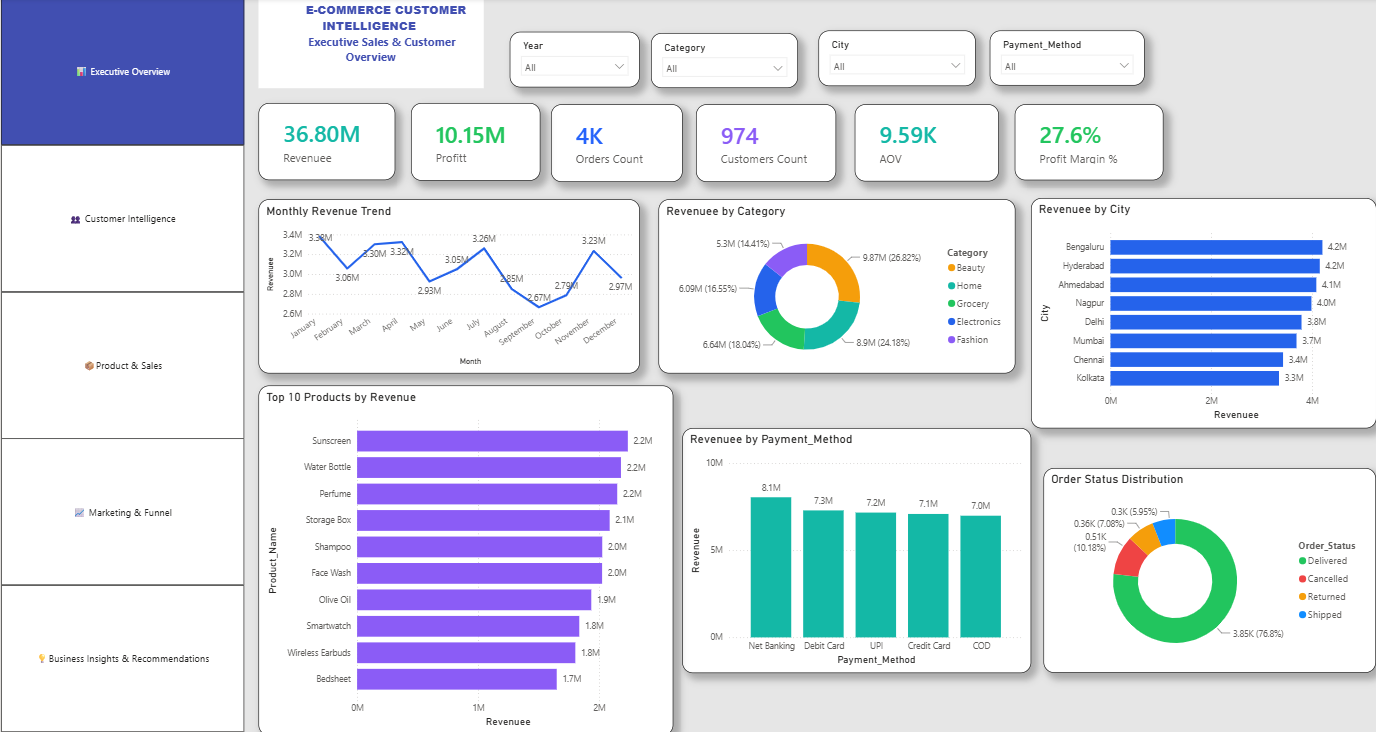

What the dashboard file says about the page in this screenshot:
{"tool":"powerbi","page":{"name":"📊 Executive Overview ","canvas":[1940,1040],"ordinal":0},"visuals":[{"type":"textbox","box":[363,0,317.2,126.9],"z":0},{"type":"cardVisual","title":"Total Revenue","fields":{"Data":["Orders.Revenuee"]},"box":[362.9,148.3,193,108.6],"z":1000},{"type":"cardVisual","title":"Total Orders","fields":{"Data":["Orders.Orders Count"]},"box":[775.3,149.8,185.2,109.8],"z":2000},{"type":"cardVisual","title":"Total Customers","fields":{"Data":["Orders.Customers Count"]},"box":[980.7,149.8,197.6,109.8],"z":3000},{"type":"cardVisual","title":"Average Order Value","fields":{"Data":["Orders.AOV"]},"box":[1203,149.8,203.1,108.4],"z":4000},{"type":"cardVisual","title":"Average Order Value","fields":{"Data":["Orders.Profitt"]},"box":[577.6,148.3,182.5,109.8],"z":5000},{"type":"lineChart","title":"Monthly Revenue Trend","fields":{"Category":["Orders.Order_Date.Variation.Date Hierarchy.Month"],"Y":["Orders.Revenuee"]},"box":[362.9,284.2,537.4,245.5],"z":6000},{"type":"donutChart","fields":{"Category":["Products.Category"],"Y":["Orders.Revenuee"]},"box":[926.6,284.2,503.5,245.5],"z":7000},{"type":"clusteredBarChart","fields":{"Category":["Customers.City"],"Y":["Orders.Revenuee"]},"box":[1452.2,282,487.1,324.7],"z":8000},{"type":"donutChart","title":"Order Status Distribution","fields":{"Category":["Orders.Order_Status"],"Y":["CountNonNull(Orders.Order_ID)"]},"box":[1469.8,662.6,468.8,289],"z":9000},{"type":"clusteredColumnChart","fields":{"Category":["Orders.Payment_Method"],"Y":["Orders.Revenuee"]},"box":[960.5,606.3,491.7,345.4],"z":10000},{"type":"clusteredBarChart","title":"Top 10 Products by Revenue","fields":{"Category":["Products.Product_Name"],"Y":["Orders.Revenuee"]},"box":[363,546.3,585.1,493.5],"z":11000},{"type":"slicer","title":"Year","fields":{"Values":["DateTable.Year"]},"box":[716.6,47.9,183.4,78.4],"z":12000},{"type":"slicer","title":"Category","fields":{"Values":["Products.Category"]},"box":[915.8,49.4,207.5,77.2],"z":13000},{"type":"slicer","title":"City","fields":{"Values":["Customers.City"]},"box":[1152.1,46.3,222,78.4],"z":14000},{"type":"slicer","title":"Payment Method","fields":{"Values":["Orders.Payment_Method"]},"box":[1394.5,46.3,218.4,77.2],"z":15000},{"type":"cardVisual","fields":{"Data":["Orders.Profit Margin %"]},"box":[1428.5,149.8,209.9,107],"z":16000},{"type":"pageNavigator","box":[0,0,343.7,1039.8],"z":16001}]}

Visuals, with their boxes on the page's 1940x1040 design canvas (x1, y1, x2, y2). These are canvas units, not pixel positions in the 1376x732 screenshot, which may show the page scaled, cropped or inside an application window:
textbox: {"x1": 363, "y1": 0, "x2": 680, "y2": 127}
"Total Revenue" cardVisual: {"x1": 363, "y1": 148, "x2": 556, "y2": 257}
"Total Orders" cardVisual: {"x1": 775, "y1": 150, "x2": 960, "y2": 260}
"Total Customers" cardVisual: {"x1": 981, "y1": 150, "x2": 1178, "y2": 260}
"Average Order Value" cardVisual: {"x1": 1203, "y1": 150, "x2": 1406, "y2": 258}
"Average Order Value" cardVisual: {"x1": 578, "y1": 148, "x2": 760, "y2": 258}
"Monthly Revenue Trend" lineChart: {"x1": 363, "y1": 284, "x2": 900, "y2": 530}
donutChart - Products.Category x Orders.Revenuee: {"x1": 927, "y1": 284, "x2": 1430, "y2": 530}
clusteredBarChart - Customers.City x Orders.Revenuee: {"x1": 1452, "y1": 282, "x2": 1939, "y2": 607}
"Order Status Distribution" donutChart: {"x1": 1470, "y1": 663, "x2": 1939, "y2": 952}
clusteredColumnChart - Orders.Payment_Method x Orders.Revenuee: {"x1": 960, "y1": 606, "x2": 1452, "y2": 952}
"Top 10 Products by Revenue" clusteredBarChart: {"x1": 363, "y1": 546, "x2": 948, "y2": 1040}
"Year" slicer: {"x1": 717, "y1": 48, "x2": 900, "y2": 126}
"Category" slicer: {"x1": 916, "y1": 49, "x2": 1123, "y2": 127}
"City" slicer: {"x1": 1152, "y1": 46, "x2": 1374, "y2": 125}
"Payment Method" slicer: {"x1": 1394, "y1": 46, "x2": 1613, "y2": 124}
cardVisual - Orders.Profit Margin %: {"x1": 1428, "y1": 150, "x2": 1638, "y2": 257}
pageNavigator: {"x1": 0, "y1": 0, "x2": 344, "y2": 1040}
